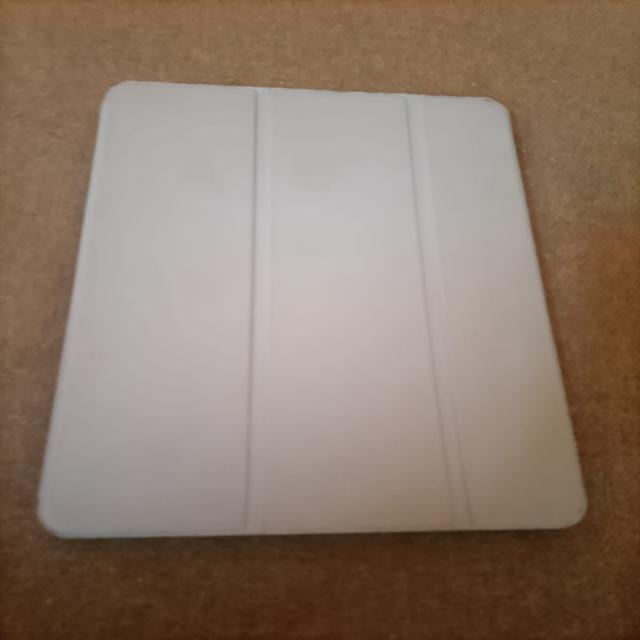tablet: (4, 47, 609, 581)
